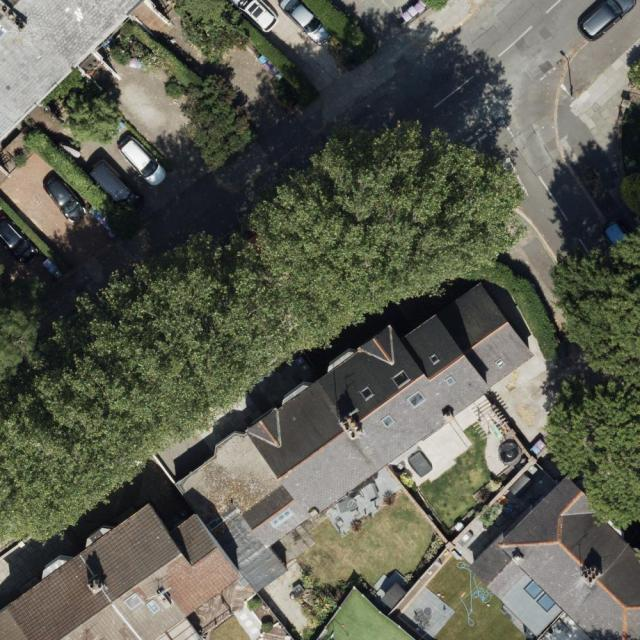roof: (0, 283, 536, 640), (469, 473, 640, 640), (0, 0, 148, 144)
skylight: (406, 388, 427, 409), (270, 507, 293, 526), (124, 591, 144, 611), (524, 579, 543, 599), (539, 593, 557, 612), (391, 372, 411, 387), (381, 413, 397, 430), (361, 385, 375, 401), (146, 600, 161, 614), (427, 353, 441, 367), (492, 356, 506, 369), (444, 375, 456, 388)
